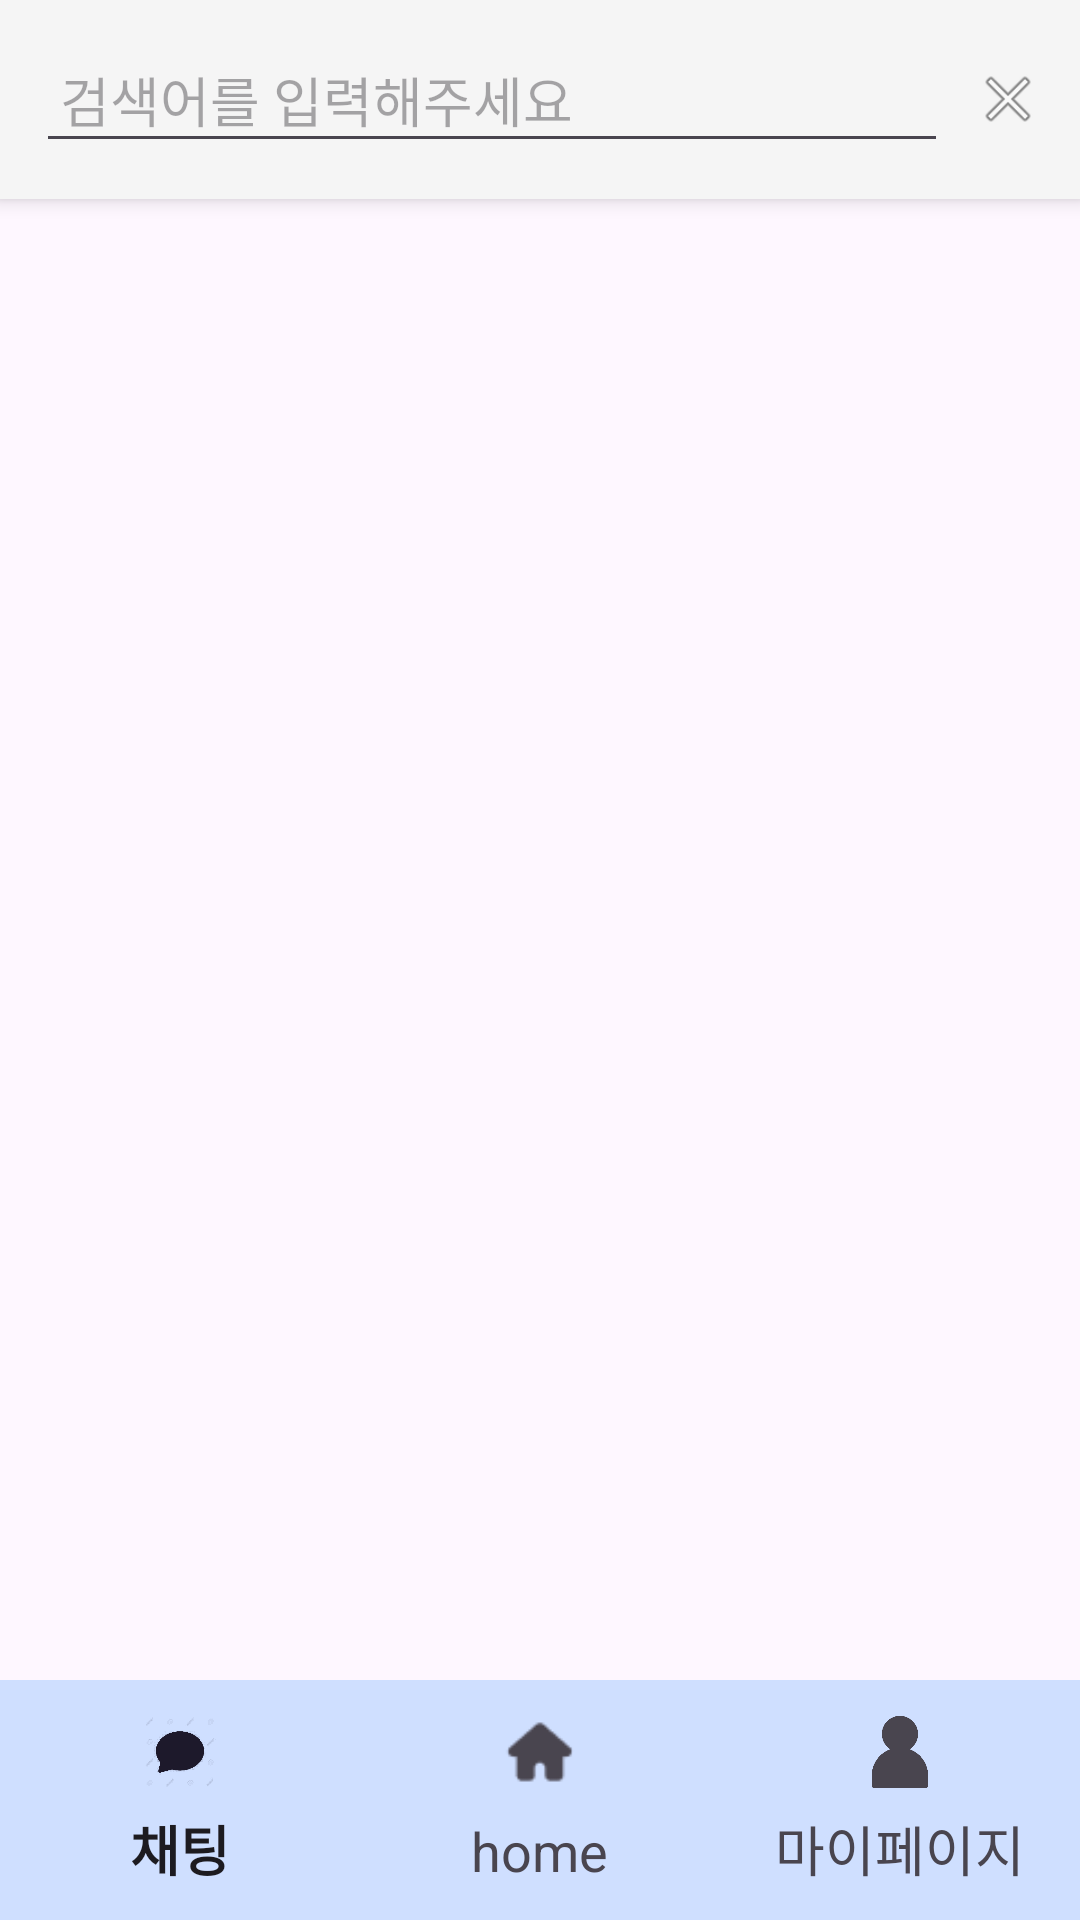

Named icons in this screenshot (1080×1920) and their bounding boxes, (x1, y1, x2, y2):
Clear Search: (985, 76, 1031, 122)
